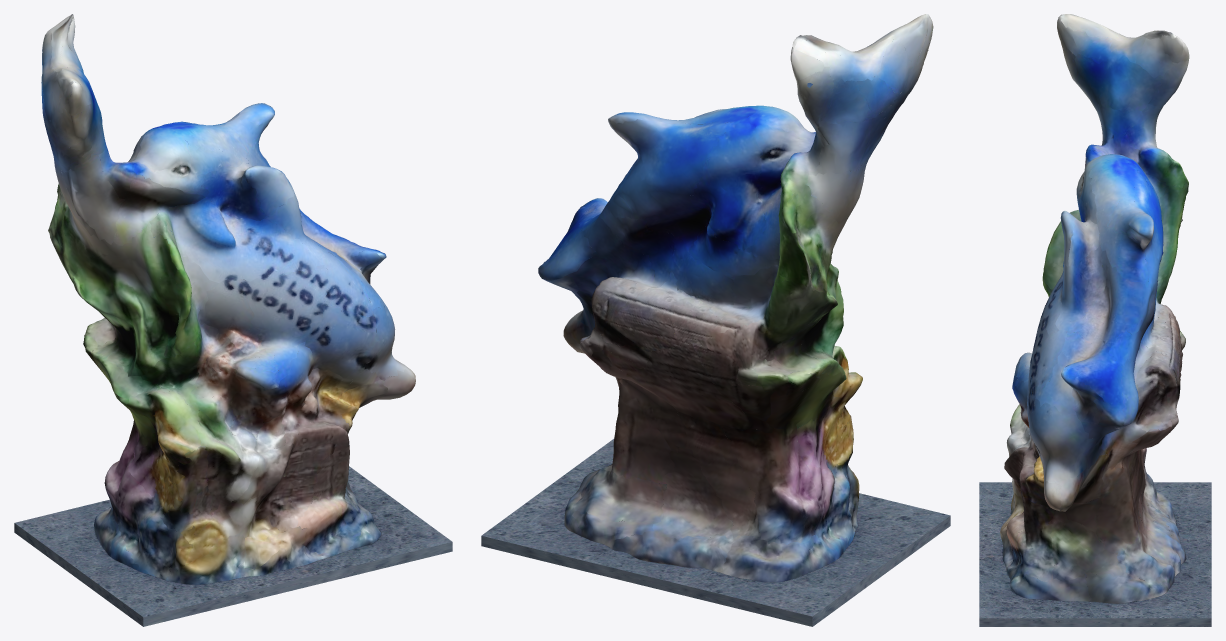
The model's file is Delfinb1.glb.
3 renders of one model, left to right at view 1: azimuth 30°, elevation 25°; view 2: azimuth 150°, elevation 25°; view 3: azimuth 270°, elevation 25°, orthographic. The views are drawn at different scales.
Visible parts, largest first — view 1: Mesh_0.002, Cube; view 2: Mesh_0.002, Cube; view 3: Mesh_0.002, Cube.
Part boxes in pixels (x1,y1,x2,y2): Mesh_0.002: (41, 14, 415, 584); Cube: (14, 466, 452, 626); Mesh_0.002: (538, 14, 933, 582); Cube: (481, 438, 950, 626); Mesh_0.002: (1000, 14, 1189, 603); Cube: (979, 482, 1211, 626).
Bounding box in the file's own units: 0.5805 × 0.8509 × 0.3778.
2 materials, 2 textured.
